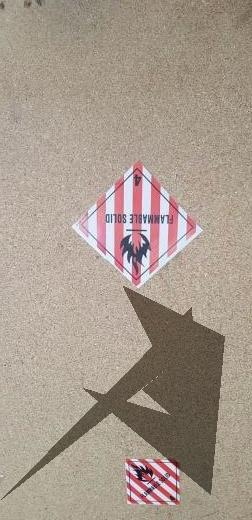flammable-solid: (73, 166, 197, 279), (125, 458, 181, 508)
